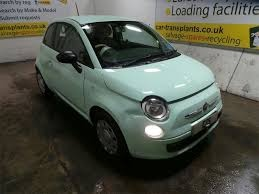Dent: (43, 59, 63, 82)
Scratch: (123, 106, 148, 123)
